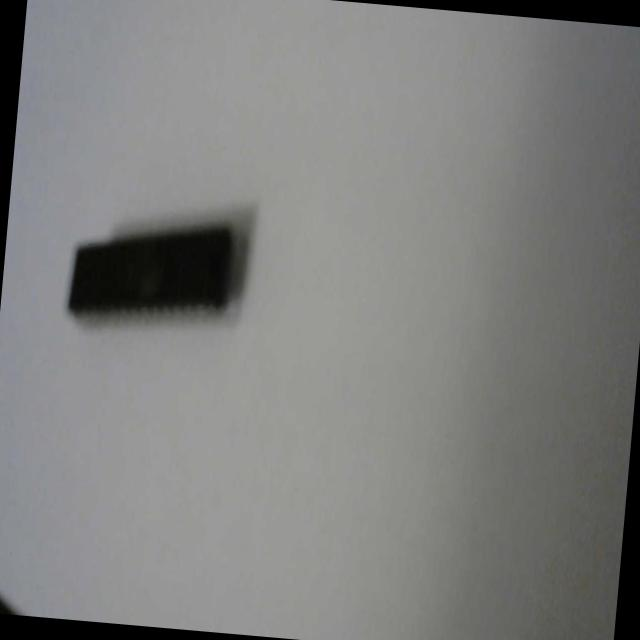atmega: (61, 197, 247, 340)
